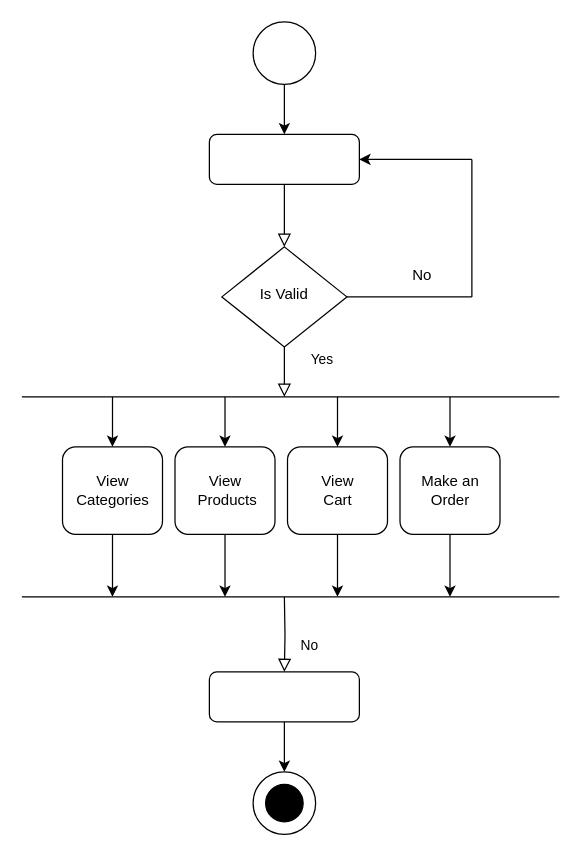
Image size: 583x856. Some labels were removed from this diagram. The centre of each missing label's shape, as x and y in pixels:
Login: the point at 283,158
Logout: the point at 283,696
